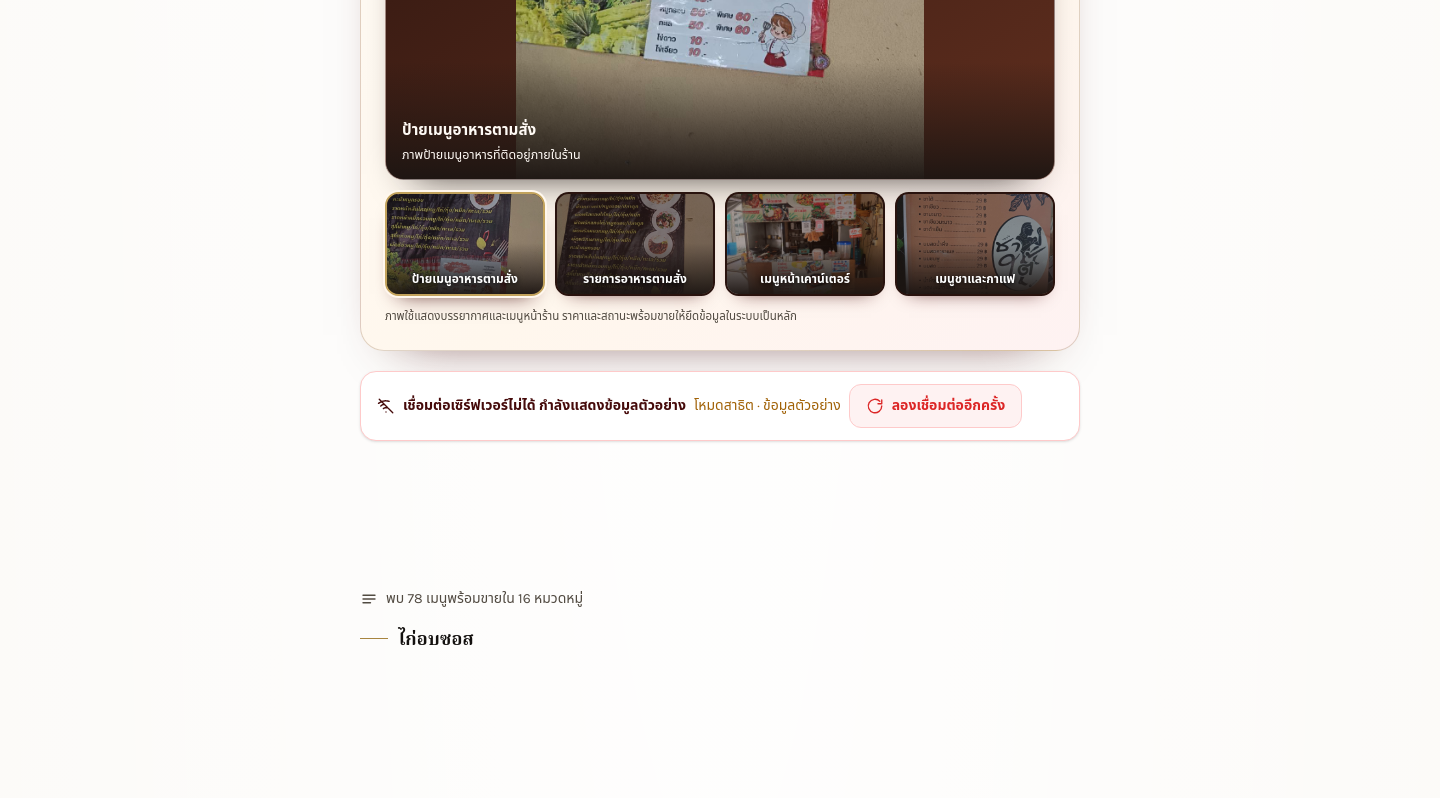
it: หน้าเมนูสาธารณะ (Ticket 04) › DEV fallback: retry กลับมาแสดงข้อมูลจริงได้
(page scrolled)
What coordinates should you click on to do the following:
click the button with aria-label "ลองเชื่อมต่อเซิร์ฟเวอร์อีกครั้ง"
I would click on:
 (935, 406)
Its box is left=849, top=384, right=1022, bottom=428.
(page scrolled)
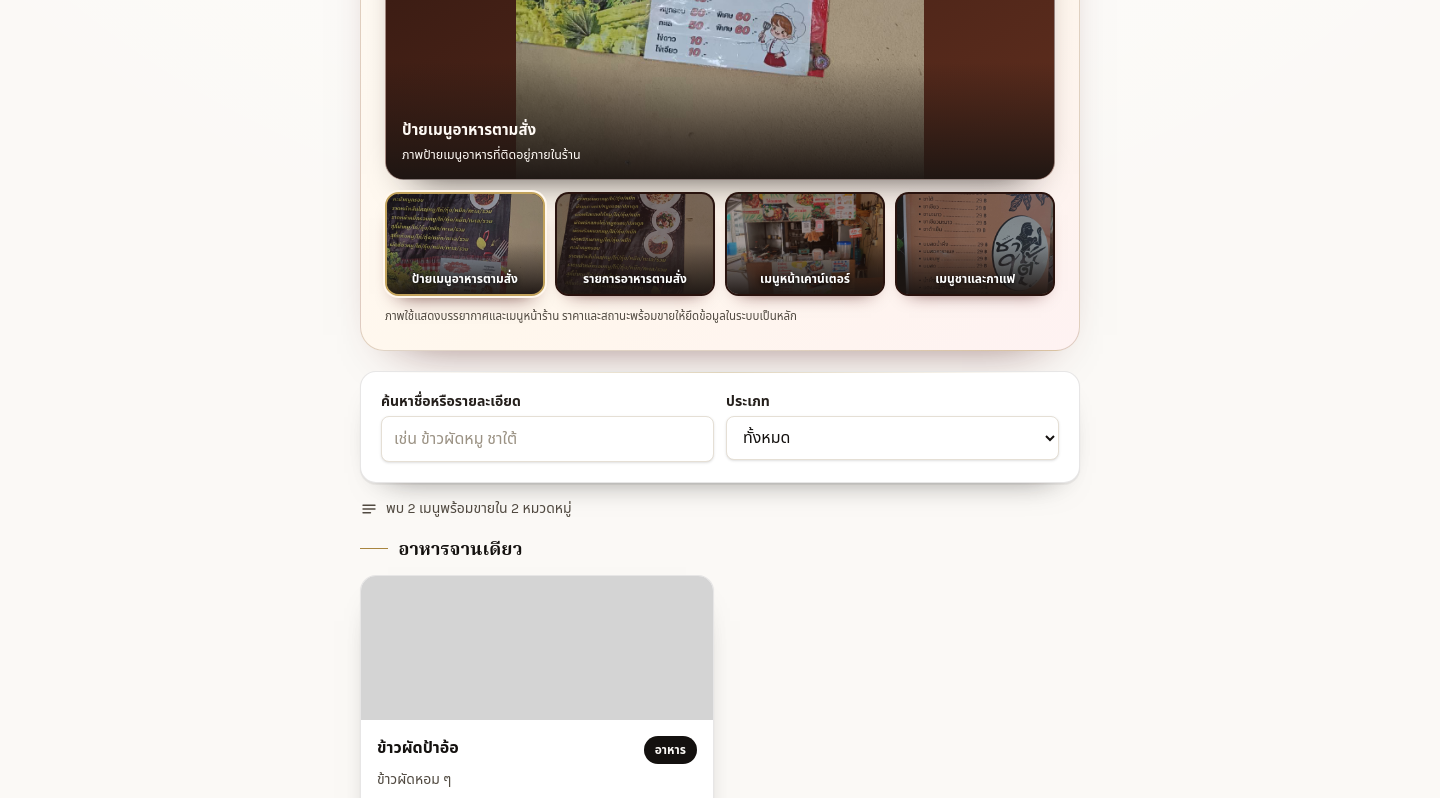
Now the text "ข้าวผัดป้าอ้อ" is shown, box left=377, top=736, right=459, bottom=760
